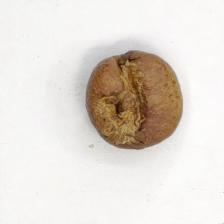NG: (94, 62, 150, 148)
